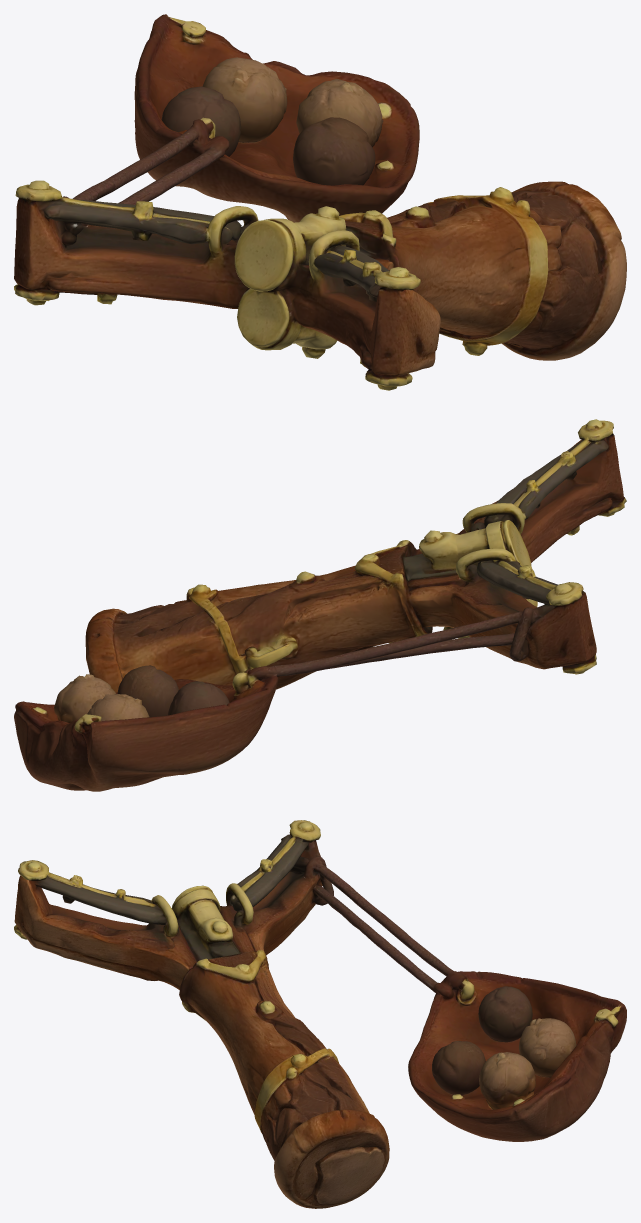
The model's file is pelletbow.glb.
3 renders of one model, top to bottom at view 1: azimuth 30°, elevation 25°; view 2: azimuth 150°, elevation 25°; view 3: azimuth 270°, elevation 25°, orthographic. The views are drawn at different scales.
Visible parts, largest first — view 1: tripo_node_1c3b685e-a824-41ee-9450-250d7c4dbd4d; view 2: tripo_node_1c3b685e-a824-41ee-9450-250d7c4dbd4d; view 3: tripo_node_1c3b685e-a824-41ee-9450-250d7c4dbd4d.
Boxes of the visible parts, x1,y1,x2,y2 form: tripo_node_1c3b685e-a824-41ee-9450-250d7c4dbd4d: (14, 14, 626, 390); tripo_node_1c3b685e-a824-41ee-9450-250d7c4dbd4d: (14, 419, 626, 791); tripo_node_1c3b685e-a824-41ee-9450-250d7c4dbd4d: (14, 820, 626, 1208).
Size of the model in its own units: 0.7861 by 0.4062 by 1.
1 material, 1 textured.
